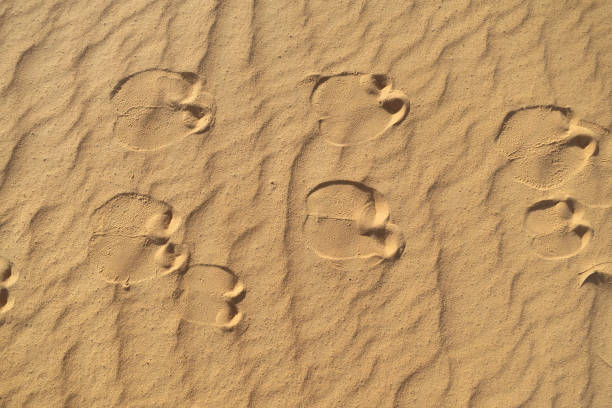animal_footprint: (87, 193, 189, 286), (496, 105, 600, 189), (303, 180, 404, 264), (110, 69, 215, 149), (310, 73, 409, 145), (177, 264, 244, 329), (524, 197, 592, 258), (564, 122, 611, 207), (0, 256, 17, 313), (579, 261, 611, 285)
